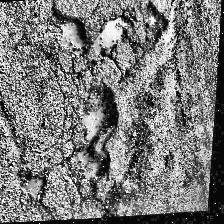pothole: (44, 6, 172, 66), (75, 82, 126, 146), (70, 147, 116, 197)
